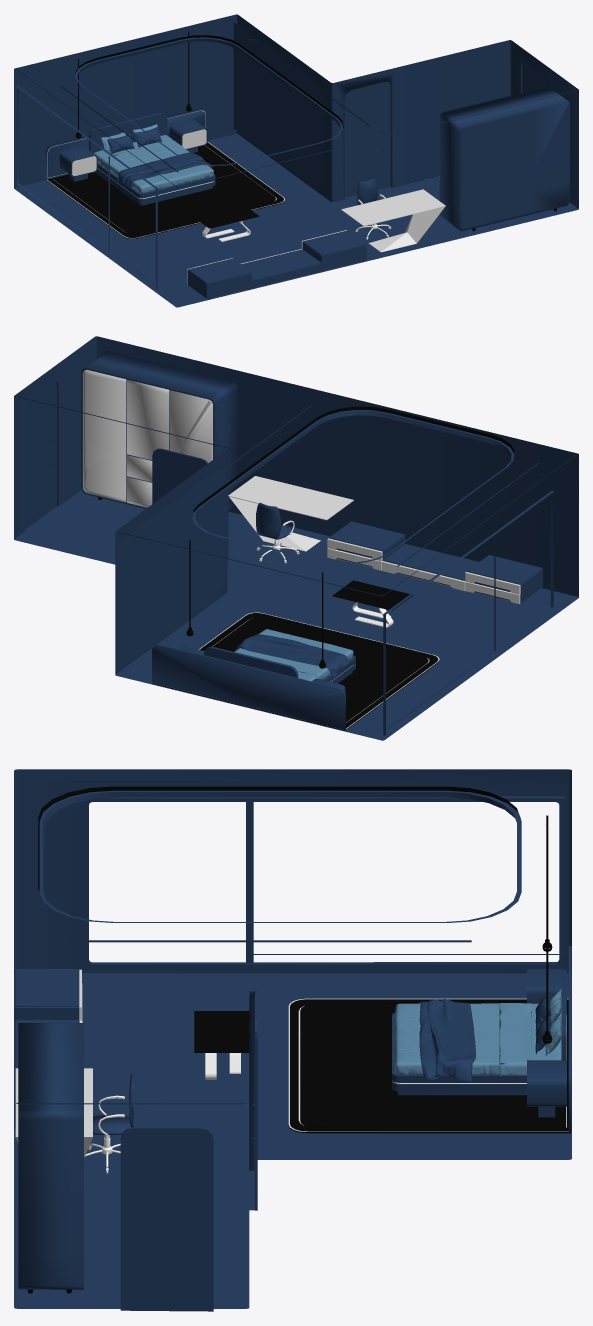
Rendered from Room__optimized.glb.
3 renders of one model, top to bottom at view 1: azimuth 30°, elevation 25°; view 2: azimuth 150°, elevation 25°; view 3: azimuth 270°, elevation 25°, orthographic. The views are drawn at different scales.
Visible parts, largest first — view 1: NightTable_02, Table; view 2: NightTable_02, Table; view 3: NightTable_02, Table.
Part boxes in pixels (<box>): NightTable_02: <box>14,14,578,307</box>; Table: <box>192,194,391,241</box>; NightTable_02: <box>14,336,578,740</box>; Table: <box>256,520,413,627</box>; NightTable_02: <box>14,769,571,1311</box>; Table: <box>85,1011,249,1173</box>.
Bounding box in the file's own units: 11.42 × 3.36 × 8.07.
4 materials, 4 textured.
